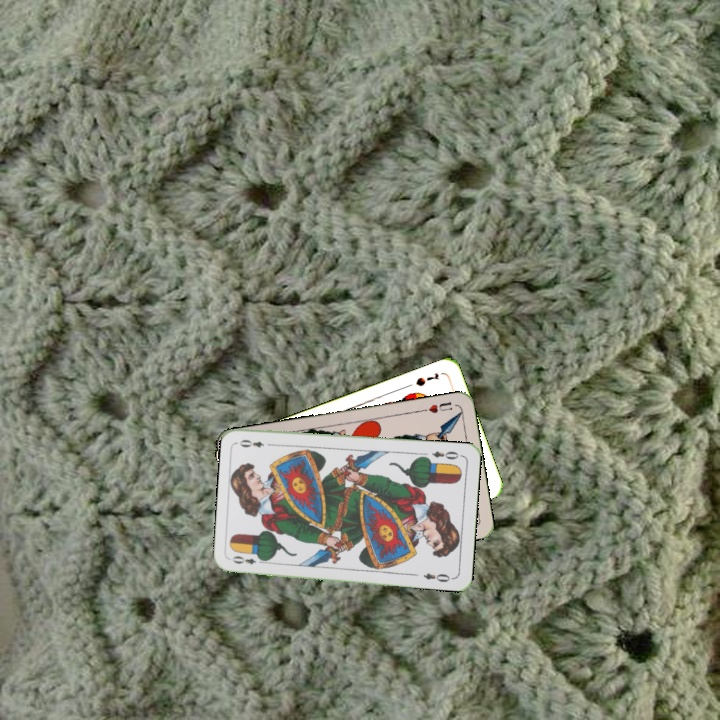EO: (228, 552, 268, 567), (428, 447, 464, 462)
HU: (417, 398, 455, 416)
S7: (411, 369, 442, 389)
